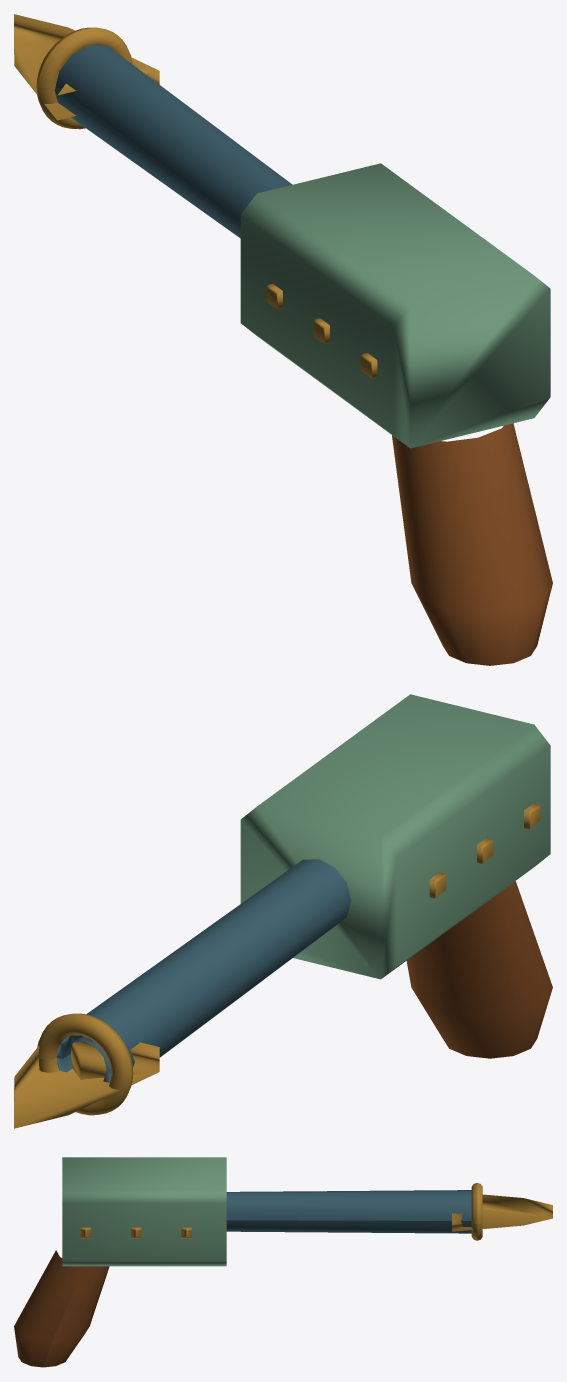
File: weapon_harpoon.glb
3 views of the same model, one above another, from view 1: azimuth 30°, elevation 25°; view 2: azimuth 150°, elevation 25°; view 3: azimuth 270°, elevation 25° (orthographic). The views are drawn at different scales.
Visible parts, largest first — view 1: ShapedReceiver, Grip, HollowBarrel0, HarpoonHead, BarrelCuff0; view 2: ShapedReceiver, HollowBarrel0, Grip, HarpoonHead, BarrelCuff0; view 3: ShapedReceiver, HollowBarrel0, Grip, HarpoonHead, BarrelCuff0.
Part boxes in pixels (box(x1,y1,x2,y2)): ShapedReceiver: box(240, 163, 550, 448); Grip: box(392, 423, 552, 665); HollowBarrel0: box(54, 45, 292, 238); HarpoonHead: box(14, 14, 159, 120); BarrelCuff0: box(36, 27, 132, 129); ShapedReceiver: box(240, 694, 550, 979); HollowBarrel0: box(57, 859, 350, 1082); Grip: box(406, 881, 552, 1058); HarpoonHead: box(14, 1041, 159, 1128); BarrelCuff0: box(37, 1013, 133, 1115); ShapedReceiver: box(62, 1157, 226, 1266); HollowBarrel0: box(226, 1190, 471, 1233); Grip: box(14, 1250, 109, 1367); HarpoonHead: box(452, 1194, 552, 1231); BarrelCuff0: box(471, 1183, 482, 1240).
Bounding box in the file's own units: 0.25 × 0.48 × 1.28.
